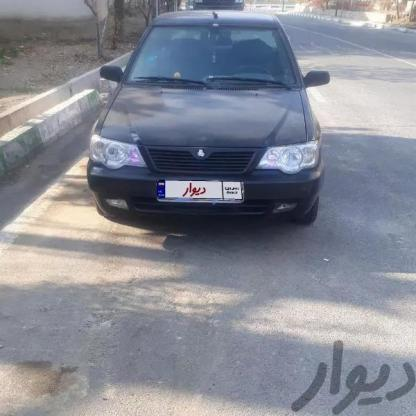Car: (90, 7, 327, 241)
